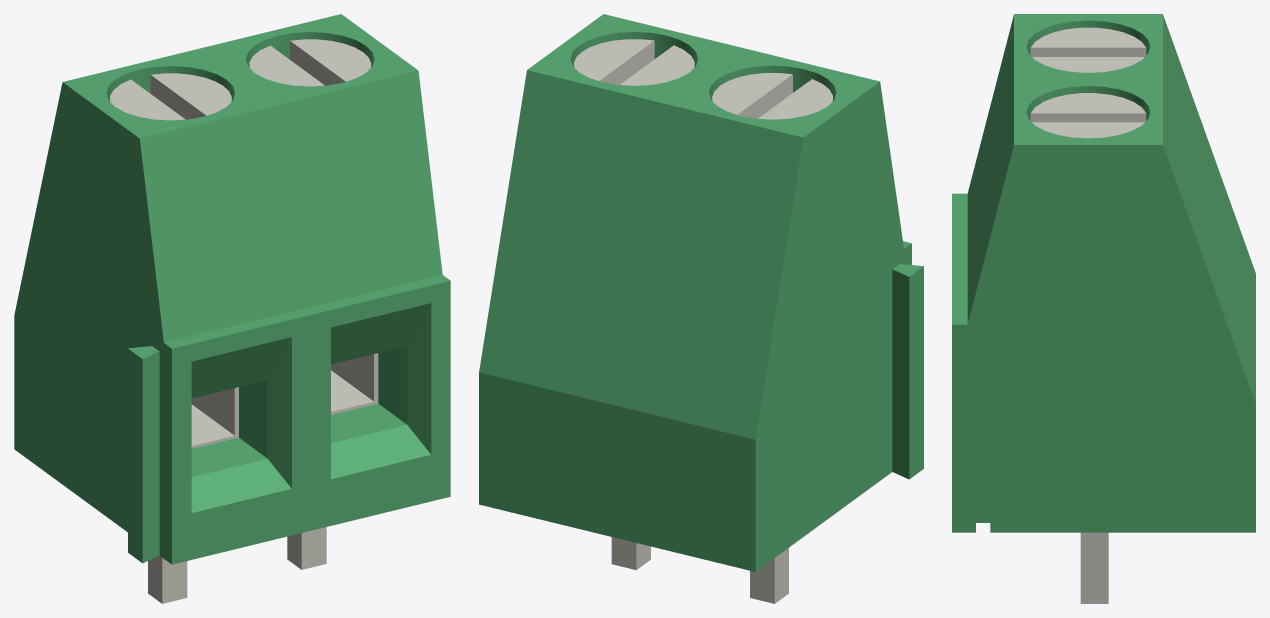
Rendered from TerminalBlock_Phoenix__TerminalBlock_Phoenix_MKDS-1_5-2_1x02_P5.00mm_Horizontal.glb.
3 views of the same model, side by side, from view 1: azimuth 30°, elevation 25°; view 2: azimuth 150°, elevation 25°; view 3: azimuth 270°, elevation 25° (orthographic). The views are drawn at different scales.
Parts seen in each view (by area): view 1: TerminalBlock_Phoenix_MKDS-1,5-2_1x02_P5.00mm_Horizontal; view 2: TerminalBlock_Phoenix_MKDS-1,5-2_1x02_P5.00mm_Horizontal; view 3: TerminalBlock_Phoenix_MKDS-1,5-2_1x02_P5.00mm_Horizontal.
Boxes of the visible parts, x1,y1,x2,y2 form: TerminalBlock_Phoenix_MKDS-1,5-2_1x02_P5.00mm_Horizontal: (14,14,450,603); TerminalBlock_Phoenix_MKDS-1,5-2_1x02_P5.00mm_Horizontal: (479,14,923,603); TerminalBlock_Phoenix_MKDS-1,5-2_1x02_P5.00mm_Horizontal: (952,14,1255,603).
Size of the model in its own units: 0.0107 by 0.0173 by 0.0098.
